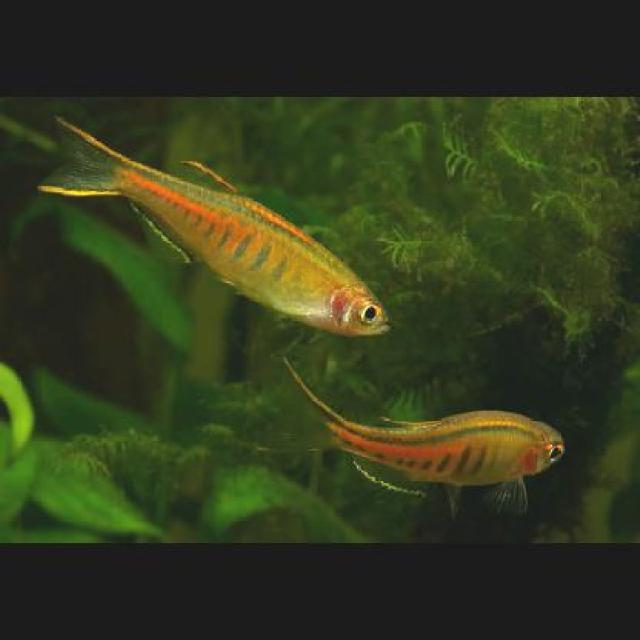ZebraFish: (47, 112, 393, 331)
